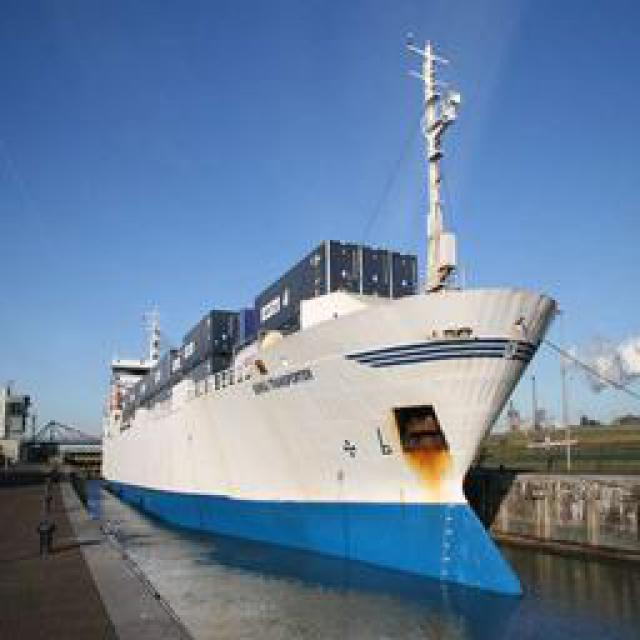Ship: (102, 270, 552, 610)
